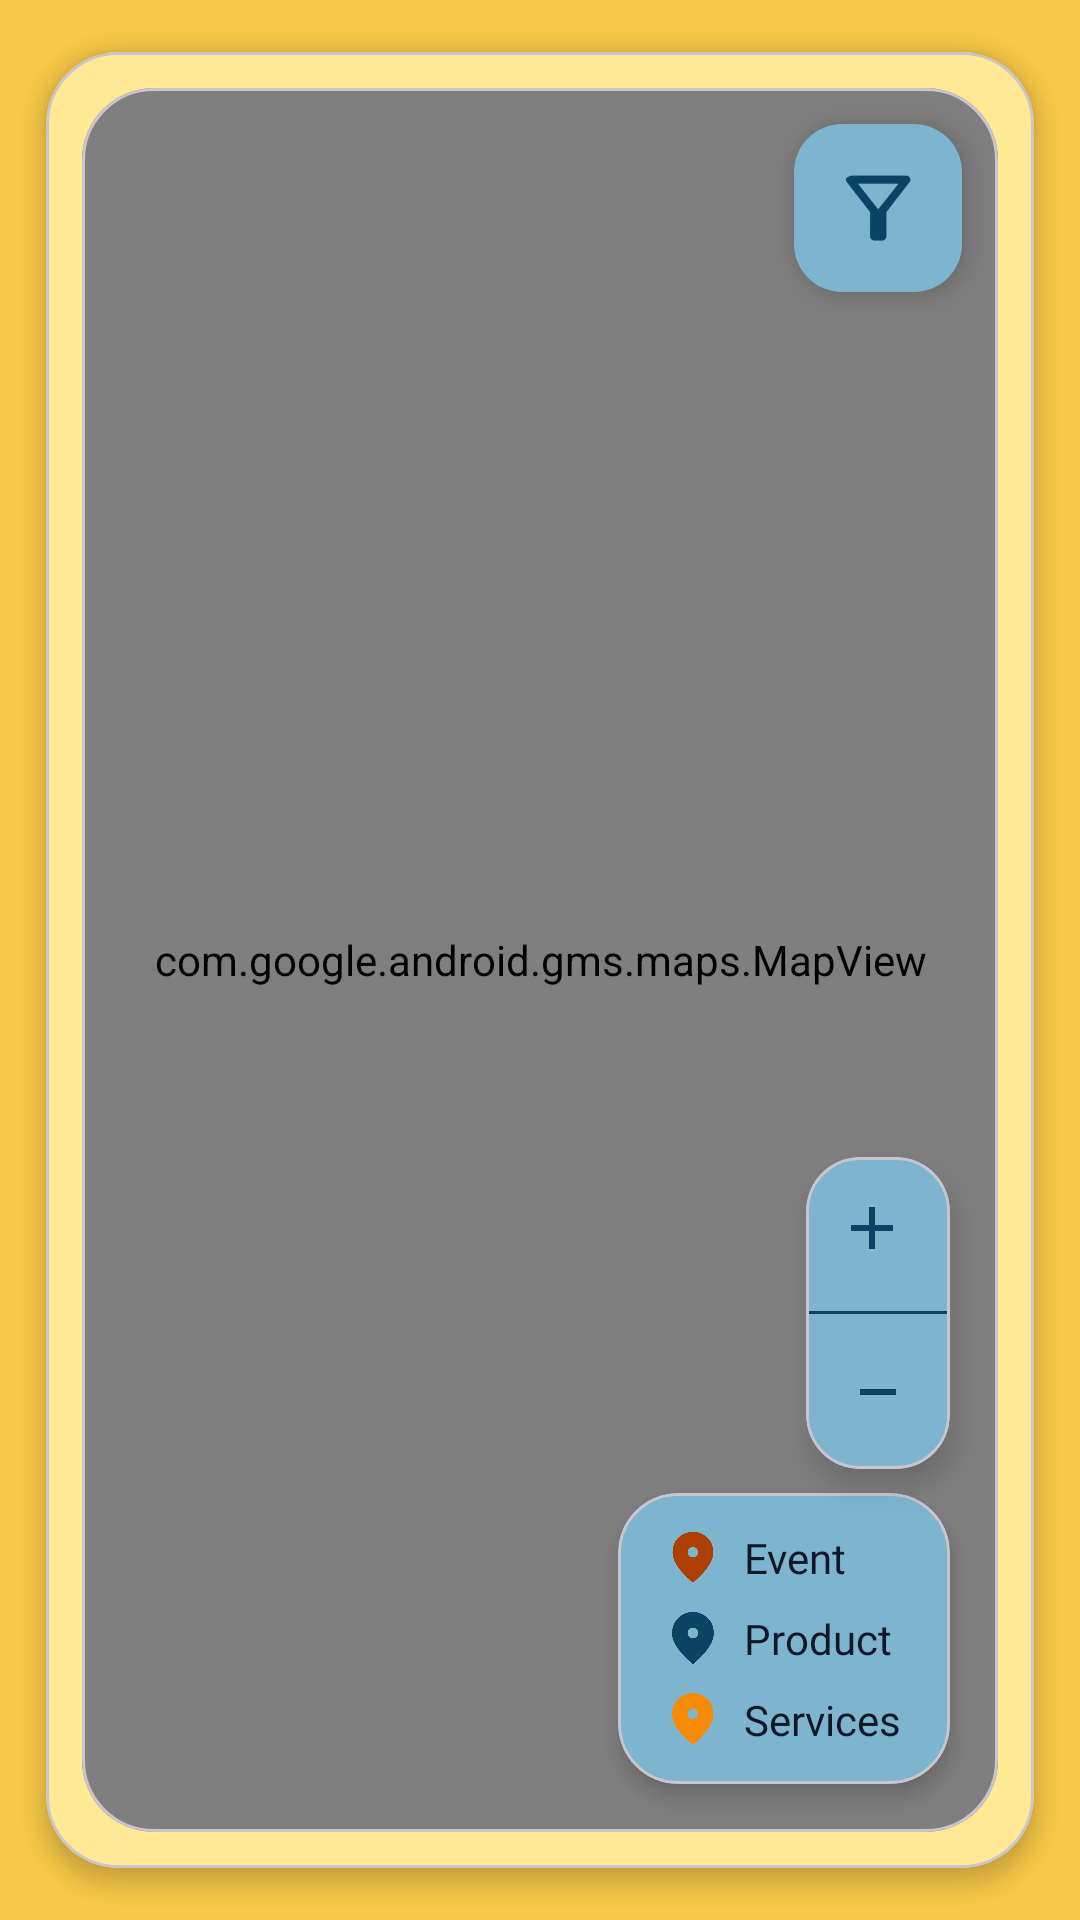

Where to tap for icons on this 1080 x 1920 app screen, as (x=x, y=y):
Filter map: (x=878, y=208)
Zoom in: (x=878, y=1234)
Zoom out: (x=878, y=1391)
